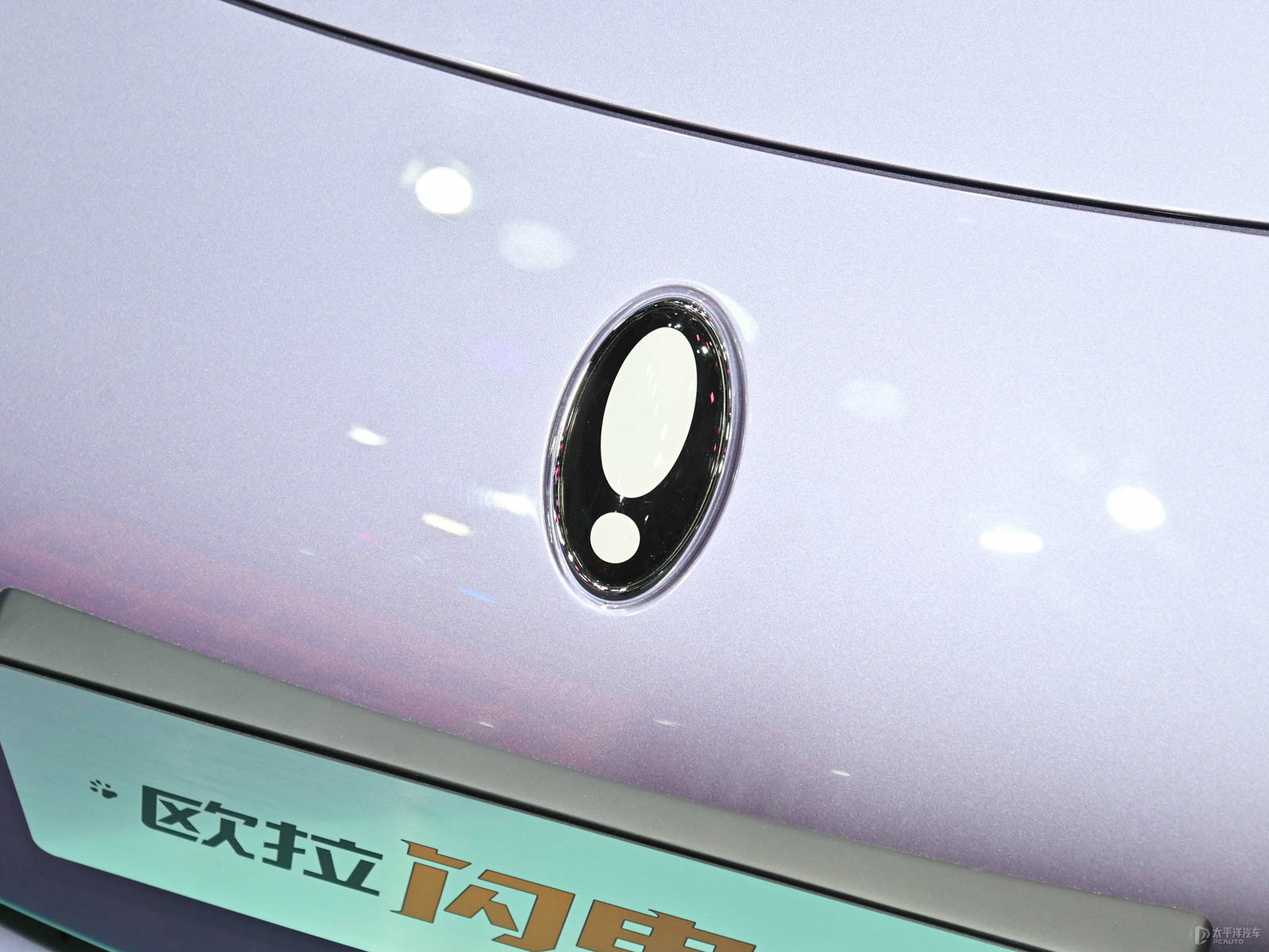ORA: (548, 288, 742, 608)
